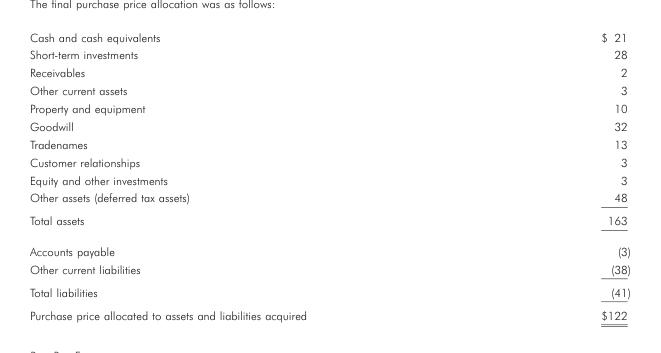table: (28, 29, 629, 321)
table column: (28, 29, 453, 321), (453, 29, 629, 321)
table row: (28, 208, 629, 235), (28, 235, 629, 259), (28, 280, 629, 303), (28, 259, 629, 280), (28, 188, 629, 208), (28, 45, 629, 63), (28, 63, 629, 81), (28, 98, 629, 116), (28, 116, 629, 134), (28, 134, 629, 152), (28, 152, 629, 170), (28, 170, 629, 188), (28, 303, 629, 321), (28, 81, 629, 98), (28, 29, 629, 45)
